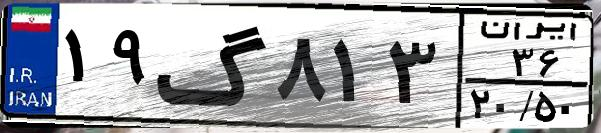0: (560, 70, 590, 125), (495, 70, 520, 125)
1: (330, 28, 385, 110), (57, 26, 110, 100)
2: (470, 70, 495, 125)
3: (385, 28, 445, 110), (508, 27, 537, 80)
5: (535, 70, 560, 125)
6: (537, 27, 568, 80)
8: (270, 28, 330, 110)
9: (110, 28, 156, 98)
گ: (156, 12, 270, 120)
